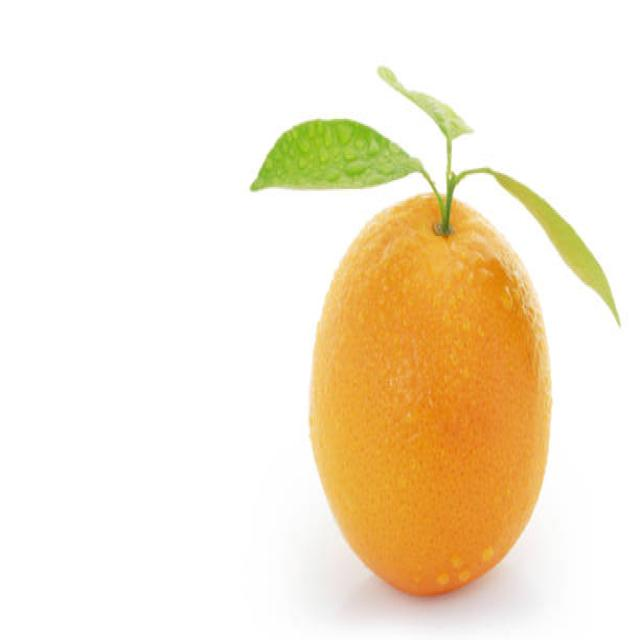Ripe: (306, 191, 556, 598)
